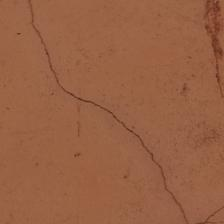Crack: (38, 0, 150, 101), (87, 0, 134, 107), (72, 92, 165, 109), (84, 49, 105, 71)
